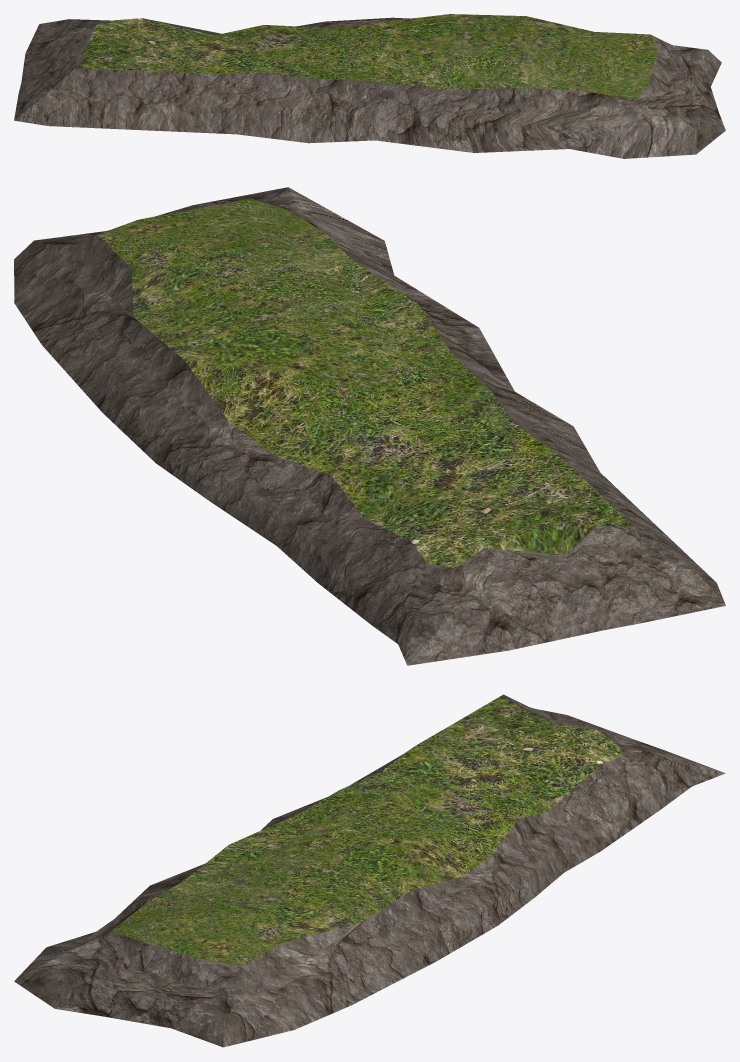
The model's file is RockMound.fbx.
3 views of the same model, one above another, from view 1: azimuth 30°, elevation 25°; view 2: azimuth 150°, elevation 25°; view 3: azimuth 270°, elevation 25° (orthographic). The views are drawn at different scales.
Visible parts, largest first — view 1: RockMound; view 2: RockMound; view 3: RockMound.
Part boxes in pixels (x1=…): RockMound: x1=14, y1=14, x2=725, y2=158; RockMound: x1=14, y1=187, x2=725, y2=665; RockMound: x1=14, y1=694, x2=725, y2=1047.
Bounding box in the file's own units: 41.77 × 3.84 × 36.58.
